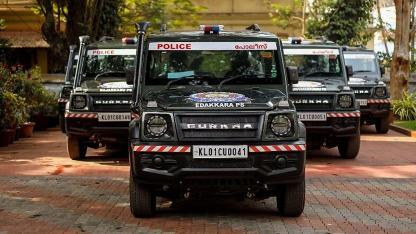priority: (125, 20, 310, 226)
